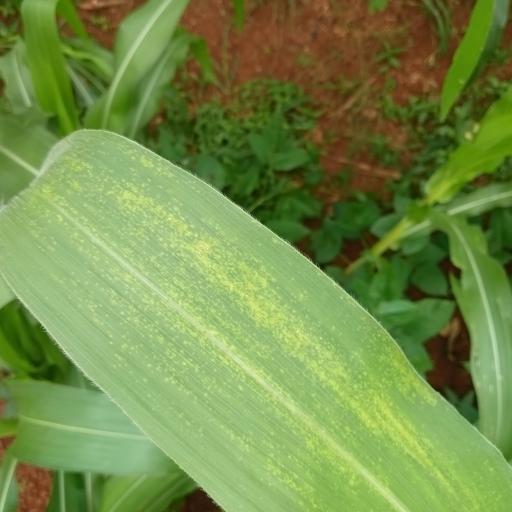Corn_Brown_Spots: (0, 122, 512, 512)
